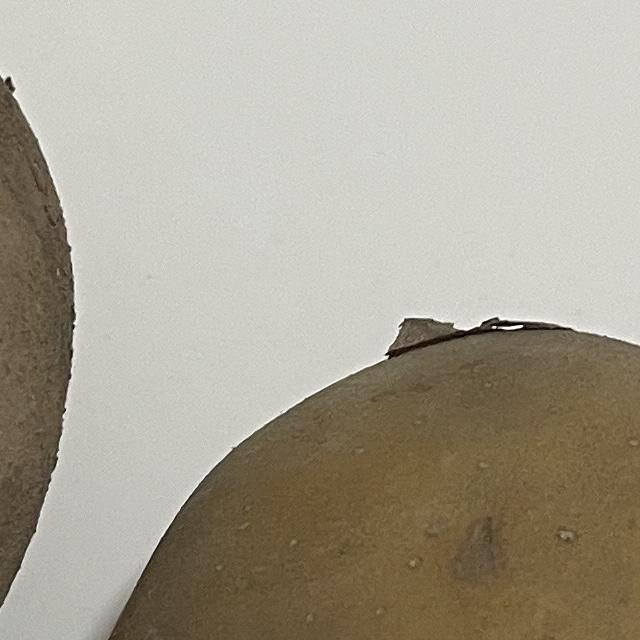potato: (46, 286, 640, 640)
